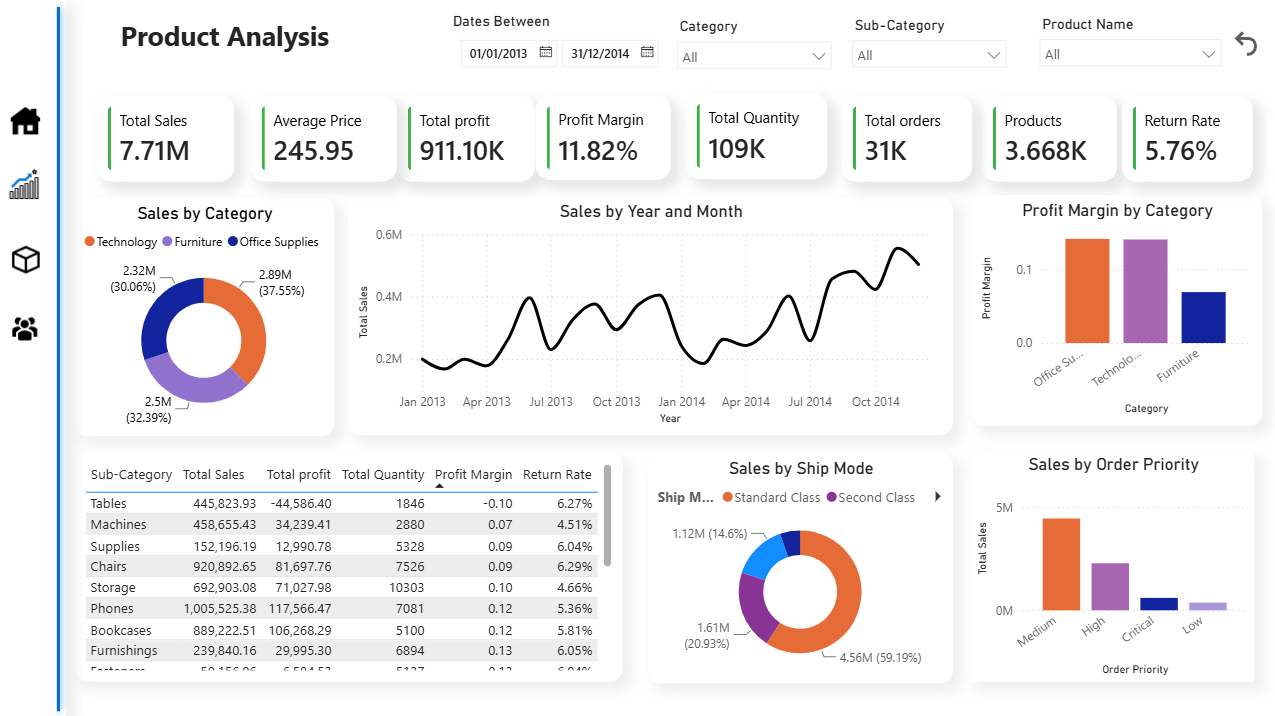

The dashboard page shown, as its layout file describes it:
{"tool":"powerbi","page":{"name":"Product Analysis","canvas":[1280,720],"ordinal":2},"visuals":[{"type":"cardVisual","fields":{"Data":["orders.Total Sales"]},"box":[98.8,96.2,137.5,86.2],"z":0},{"type":"cardVisual","fields":{"Data":["orders.Total profit"]},"box":[398.8,96.2,138.8,86.2],"z":1000},{"type":"cardVisual","fields":{"Data":["orders.Total Quantity"]},"box":[687.5,93.8,141.2,86.2],"z":2000},{"type":"cardVisual","fields":{"Data":["orders.Profit Margin"]},"box":[537.5,96.2,135,85],"z":3000},{"type":"cardVisual","fields":{"Data":["orders.Products"]},"box":[983.8,96.2,135,86.2],"z":4000},{"type":"donutChart","title":"Sales by Category","fields":{"Y":["orders.Total Sales"],"Category":["orders.Category"]},"box":[76.2,198.8,260,238.8],"z":5000},{"type":"lineChart","title":"Sales by Year and Month","fields":{"Category":["date.Date.Variation.Date Hierarchy.Year","date.Date.Variation.Date Hierarchy.Month"],"Y":["orders.Total Sales"]},"box":[350,197.5,605,238.8],"z":6000},{"type":"columnChart","fields":{"Category":["orders.Category"],"Y":["orders.Profit Margin"]},"box":[973.8,196.2,290,230],"z":7000},{"type":"tableEx","fields":{"Values":["orders.Sub-Category","orders.Total Sales","orders.Total profit","orders.Total Quantity","orders.Profit Margin","customer.Return Rate"]},"box":[76.2,453.8,548.8,228.8],"z":8000},{"type":"donutChart","title":"Sales by Ship Mode","fields":{"Y":["orders.Total Sales"],"Category":["orders.Ship Mode"]},"box":[650,453.8,305,230],"z":9000},{"type":"columnChart","title":"Sales by Order Priority","fields":{"Category":["orders.Order Priority"],"Y":["orders.Total Sales"]},"box":[973.8,453.8,282.5,228.8],"z":10000},{"type":"textbox","box":[117.4,13.5,218.9,58.7],"z":11000},{"type":"slicer","title":"Dates Between","fields":{"Values":["date.Date"]},"box":[450,13.5,218.9,59.9],"z":12000},{"type":"slicer","fields":{"Values":["orders.Sub-Category"]},"box":[843.8,12.5,175,61.2],"z":13000},{"type":"slicer","fields":{"Values":["orders.Product Name"]},"box":[1031.2,11.2,202.5,61.2],"z":14000},{"type":"cardVisual","fields":{"Data":["orders.Average Selling Price"]},"box":[252.5,96.2,146.2,86.2],"z":15000},{"type":"cardVisual","fields":{"Data":["orders.Total orders"]},"box":[843.8,96.2,130,86.2],"z":16000},{"type":"cardVisual","fields":{"Data":["customer.Return Rate"]},"box":[1123.8,96.2,131.2,86.2],"z":17000},{"type":"slicer","fields":{"Values":["orders.Category"]},"box":[668.8,13.8,175,61.2],"z":18000},{"type":"shape","box":[51.9,0,15.7,720.2],"z":19000},{"type":"actionButton","box":[6,161.7,39.8,48.3],"z":20000},{"type":"actionButton","box":[8.4,95.3,37.4,54.3],"z":21000},{"type":"actionButton","box":[6,308.8,51.9,41],"z":22000},{"type":"actionButton","box":[4.8,234,45.8,53.1],"z":23000},{"type":"actionButton","box":[1231.2,27.5,46.2,33.8],"z":24000}]}

Visuals, with their boxes on the page's 1280x720 design canvas (x1, y1, x2, y2). These are canvas units, not pixel positions in the 1275x716 screenshot, which may show the page scaled, cropped or inside an application window:
cardVisual - orders.Total Sales: region(99, 96, 236, 182)
cardVisual - orders.Total profit: region(399, 96, 538, 182)
cardVisual - orders.Total Quantity: region(688, 94, 829, 180)
cardVisual - orders.Profit Margin: region(538, 96, 672, 181)
cardVisual - orders.Products: region(984, 96, 1119, 182)
"Sales by Category" donutChart: region(76, 199, 336, 438)
"Sales by Year and Month" lineChart: region(350, 198, 955, 436)
columnChart - orders.Category x orders.Profit Margin: region(974, 196, 1264, 426)
tableEx - orders.Sub-Category x orders.Total Sales: region(76, 454, 625, 683)
"Sales by Ship Mode" donutChart: region(650, 454, 955, 684)
"Sales by Order Priority" columnChart: region(974, 454, 1256, 683)
textbox: region(117, 14, 336, 72)
"Dates Between" slicer: region(450, 14, 669, 73)
slicer - orders.Sub-Category: region(844, 12, 1019, 74)
slicer - orders.Product Name: region(1031, 11, 1234, 72)
cardVisual - orders.Average Selling Price: region(252, 96, 399, 182)
cardVisual - orders.Total orders: region(844, 96, 974, 182)
cardVisual - customer.Return Rate: region(1124, 96, 1255, 182)
slicer - orders.Category: region(669, 14, 844, 75)
shape: region(52, 0, 68, 720)
actionButton: region(6, 162, 46, 210)
actionButton: region(8, 95, 46, 150)
actionButton: region(6, 309, 58, 350)
actionButton: region(5, 234, 51, 287)
actionButton: region(1231, 28, 1277, 61)
